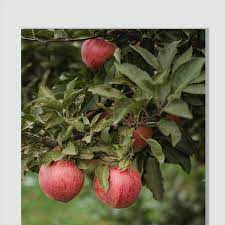Apple: (37, 154, 86, 204), (95, 161, 143, 210), (77, 36, 121, 69), (126, 119, 156, 147)
